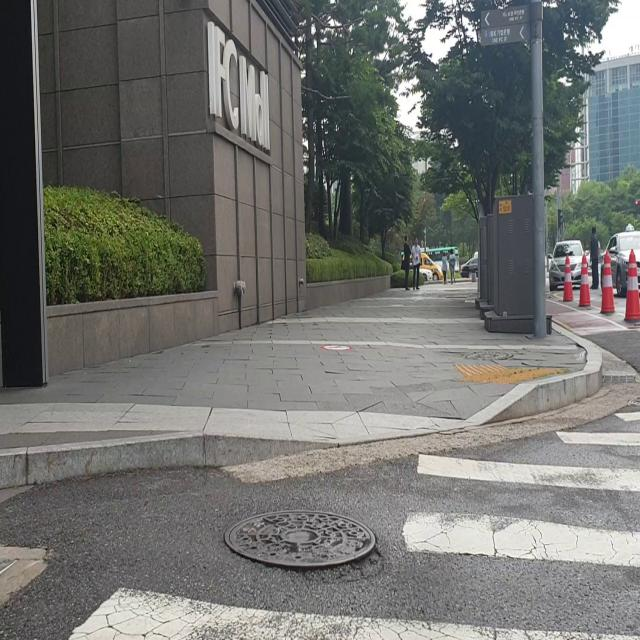횡단보도: (63, 408, 640, 640)
